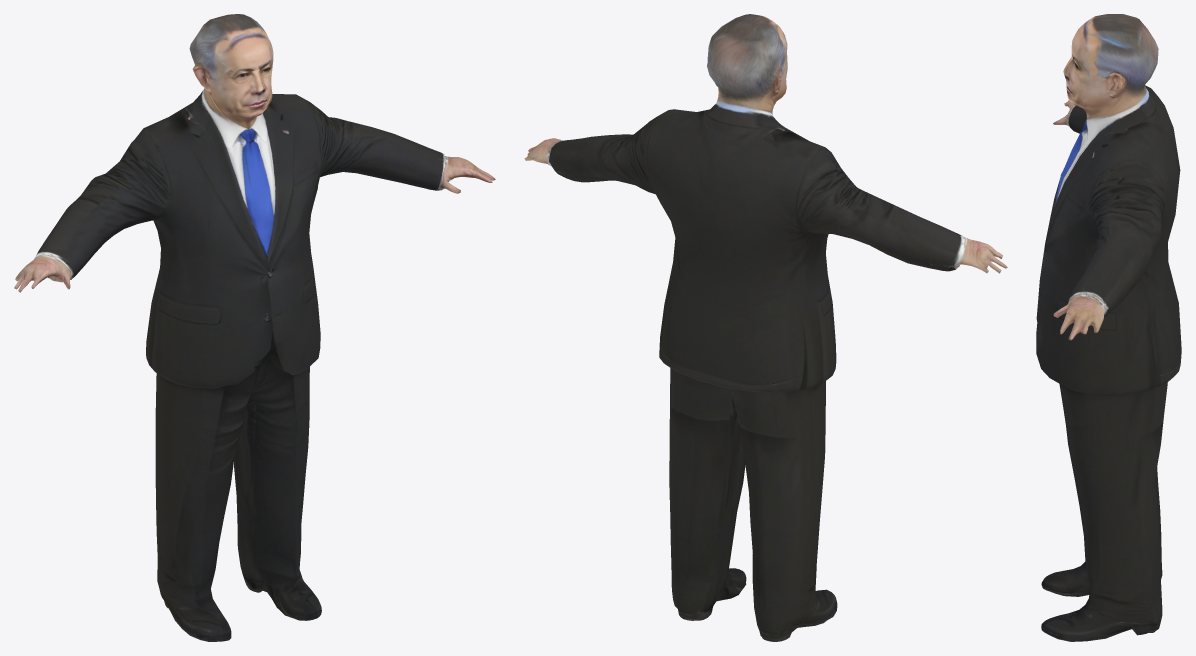
The picture shows the model from 3 angles, left to right: view 1: azimuth 30°, elevation 25°; view 2: azimuth 150°, elevation 25°; view 3: azimuth 270°, elevation 25°; orthographic projection.
Visible parts, largest first — view 1: Benjamin_Netanyahu; view 2: Benjamin_Netanyahu; view 3: Benjamin_Netanyahu.
Boxes of the visible parts, x1,y1,x2,y2 form: Benjamin_Netanyahu: (14, 14, 495, 641); Benjamin_Netanyahu: (524, 14, 1007, 641); Benjamin_Netanyahu: (1036, 14, 1181, 641).
Bounding box in the file's own units: 1.69 × 2 × 0.4436.
Materials: 1 (1 with a texture image).
